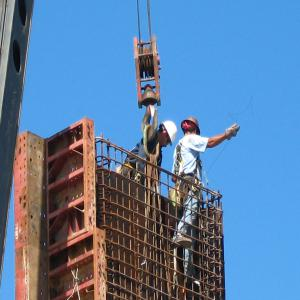white: (160, 121, 178, 147)
